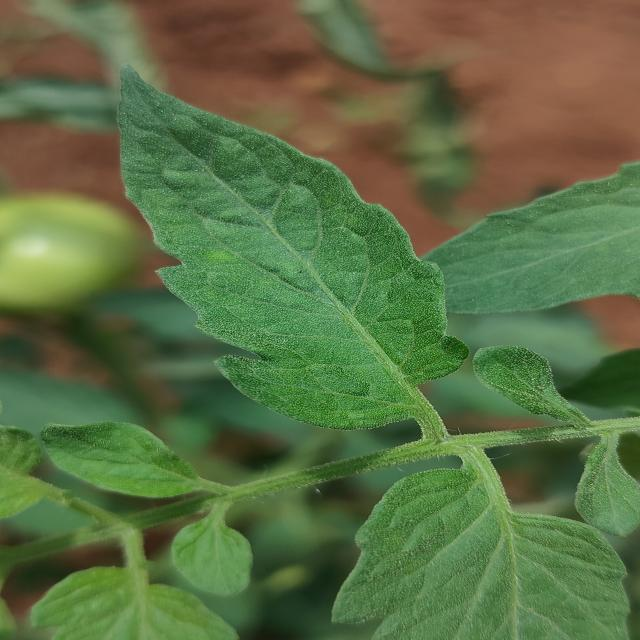tomato_healthy: (119, 69, 468, 440), (333, 450, 629, 640), (344, 156, 640, 322), (29, 530, 237, 640), (40, 422, 227, 498), (171, 502, 251, 597)
